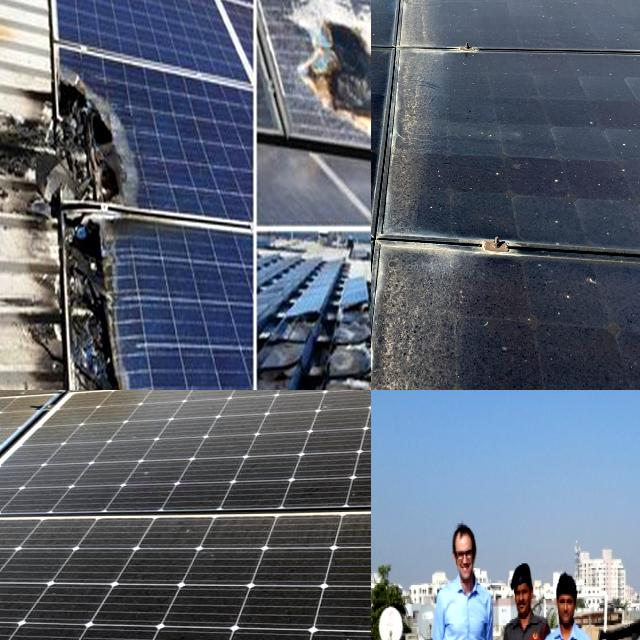crack: (8, 392, 371, 522), (74, 537, 371, 640), (46, 390, 371, 469)
dust: (414, 54, 640, 232), (384, 251, 640, 390), (371, 57, 525, 205), (371, 252, 520, 390)
shadow: (51, 84, 150, 390), (290, 0, 371, 159), (252, 313, 317, 390), (334, 343, 371, 390)
